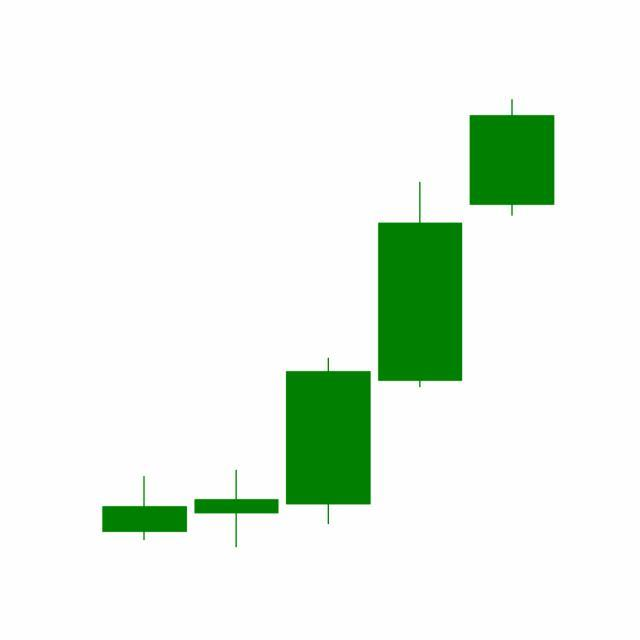Advance Block: (280, 99, 555, 530)
